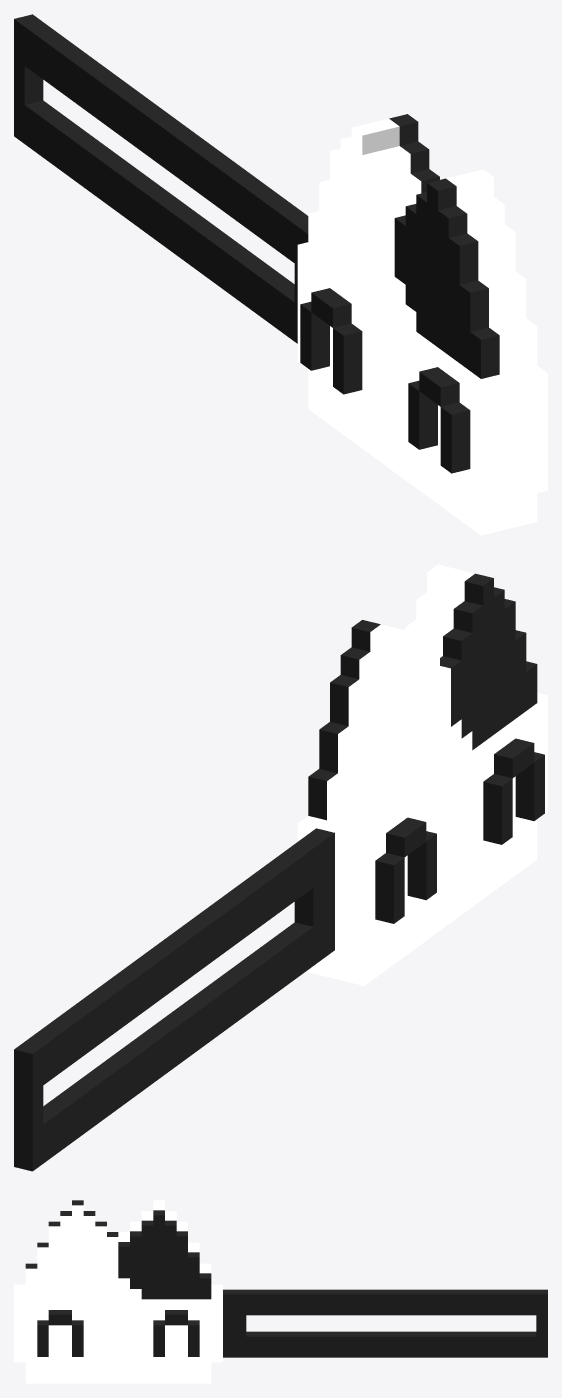
File: catCafeSign.glb
3 renders of one model, top to bottom at view 1: azimuth 30°, elevation 25°; view 2: azimuth 150°, elevation 25°; view 3: azimuth 270°, elevation 25°, orthographic. The views are drawn at different scales.
Parts seen in each view (by area): view 1: ObjObject; view 2: ObjObject; view 3: ObjObject.
Part boxes in pixels (left/top/right/bottom): ObjObject: left=14, top=14, right=547, bottom=535; ObjObject: left=14, top=564, right=547, bottom=1171; ObjObject: left=14, top=1200, right=547, bottom=1383.
Bounding box in the file's own units: 0.5 × 1.6 × 4.6.
2 materials, 1 textured.
